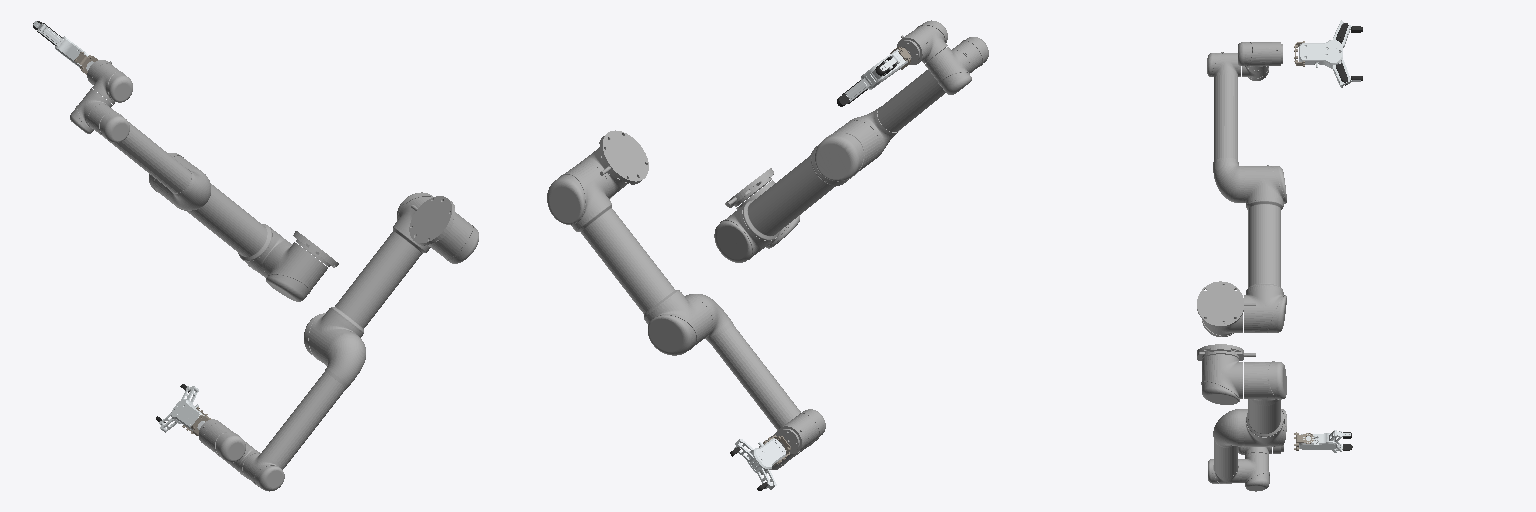
--- What the picture shows (computed from the rendered views, not written in the file) ---
The picture shows the robot from 3 angles, left to right: view 1: azimuth 30°, elevation 25°; view 2: azimuth 150°, elevation 25°; view 3: azimuth 270°, elevation 25°; orthographic projection.
Model prl_ur5_robot with 77 links and 76 joints (26 revolute, 50 fixed), rooted at prl_ur5_base, posed all joints at 0.
Visible links, largest first — view 1: right_upper_arm_link, right_forearm_link, left_forearm_link, left_upper_arm_link, left_shoulder_link, right_base_link, right_shoulder_link, left_wrist_2_link, right_wrist_2_link, left_wrist_1_link, right_gripper_body; view 2: right_upper_arm_link, left_upper_arm_link, right_forearm_link, left_forearm_link, right_base_link, left_wrist_1_link, left_wrist_2_link, right_gripper_body, right_wrist_2_link, right_wrist_3_link, left_wrist_3_link, left_base_link (+1 smaller); view 3: left_upper_arm_link, left_forearm_link, right_upper_arm_link, right_forearm_link, right_shoulder_link, left_base_link, left_gripper_body, right_wrist_1_link, left_wrist_2_link, right_base_link.
Link boxes in pixels (left/top/right/bottom): right_upper_arm_link: left=304, top=192, right=432, bottom=365; right_forearm_link: left=243, top=331, right=365, bottom=491; left_forearm_link: left=88, top=104, right=210, bottom=210; left_upper_arm_link: left=149, top=153, right=292, bottom=277; left_shoulder_link: left=265, top=242, right=327, bottom=301; right_base_link: left=409, top=196, right=454, bottom=245; right_shoulder_link: left=428, top=212, right=478, bottom=263; left_wrist_2_link: left=92, top=64, right=132, bottom=104; right_wrist_2_link: left=204, top=423, right=245, bottom=462; left_wrist_1_link: left=70, top=88, right=112, bottom=133; right_gripper_body: left=171, top=399, right=204, bottom=430; right_upper_arm_link: left=547, top=163, right=712, bottom=355; left_upper_arm_link: left=714, top=120, right=879, bottom=262; right_forearm_link: left=685, top=294, right=818, bottom=451; left_forearm_link: left=849, top=37, right=988, bottom=158; right_base_link: left=599, top=130, right=648, bottom=184; left_wrist_1_link: left=925, top=47, right=971, bottom=94; left_wrist_2_link: left=909, top=20, right=947, bottom=63; right_gripper_body: left=747, top=438, right=785, bottom=474; right_wrist_2_link: left=788, top=409, right=825, bottom=450; right_wrist_3_link: left=776, top=422, right=806, bottom=453; left_wrist_3_link: left=897, top=34, right=927, bottom=64; left_base_link: left=725, top=168, right=773, bottom=207; left_upper_arm_link: left=1244, top=165, right=1286, bottom=332; left_forearm_link: left=1207, top=52, right=1243, bottom=202; right_upper_arm_link: left=1244, top=361, right=1286, bottom=446; right_forearm_link: left=1208, top=409, right=1243, bottom=483; right_shoulder_link: left=1201, top=354, right=1242, bottom=404; left_base_link: left=1197, top=281, right=1255, bottom=327; left_gripper_body: left=1299, top=40, right=1342, bottom=68; right_wrist_1_link: left=1242, top=452, right=1269, bottom=491; left_wrist_2_link: left=1238, top=42, right=1271, bottom=70; right_base_link: left=1197, top=344, right=1255, bottom=360.
Size in the robot's own frame: 1.2 by 0.5127 by 1.37 metres.
36 mesh visuals loaded from 23 distinct referenced files (13 binary STL, 7 Collada DAE); not drawn: 6 (reference not matched to a file when rendering).

robot.urdf — prl_ur5_robot:
<?xml version="1.0" encoding="utf-8"?><!-- =================================================================================== --><!-- |    This document was autogenerated by xacro from [local-path]/catkin_ws/src/prl_ur5_robot/prl_ur5_description/urdf/prl_ur5_robot.urdf.xacro | --><!-- |    EDITING THIS FILE BY HAND IS NOT RECOMMENDED                                 | --><!-- =================================================================================== --><robot name="prl_ur5_robot">
  <material name="onrobot/grey">
    <color rgba="0.65 0.62 0.58 1.0"/>
  </material>
  <material name="onrobot/light_grey">
    <color rgba="0.9 0.92 0.93 1.0"/>
  </material>
  <material name="onrobot/dark_grey">
    <color rgba="0.25 0.25 0.25 1.0"/>
  </material>
  <material name="aluminum">
    <color rgba="0.5 0.5 0.5 1"/>
  </material>
  <material name="plastic">
    <color rgba="0.1 0.1 0.1 1"/>
  </material>
  <material name="blue_platinum">
    <color rgba="0.192 0.357 0.451 1"/>
  </material>
  <!-- base link -->
  <link name="prl_ur5_base"><inertial><mass value="0.001"/><inertia ixx="0.00001" ixy="0" ixz="0" iyy="0.00001" iyz="0" izz="0.00001"/></inertial></link>
  <!-- measured from model -->
  <link name="left_base_link">
    <visual>
      <origin rpy="0 0 3.141592653589793" xyz="0 0 0"/>
      <geometry>
        <mesh filename="./meshes/ur5/visual/base.dae"/>
      </geometry>
      <material name="LightGrey">
        <color rgba="0.7 0.7 0.7 1.0"/>
      </material>
    </visual>
    <collision>
      <origin rpy="0 0 3.141592653589793" xyz="0 0 0"/>
      <geometry>
        <mesh filename="./meshes/ur5/collision/base.stl"/>
      </geometry>
    </collision>
    <inertial>
      <mass value="4.0"/>
      <origin rpy="0 0 0" xyz="0.0 0.0 0.0"/>
      <inertia ixx="0.00443333156" ixy="0.0" ixz="0.0" iyy="0.00443333156" iyz="0.0" izz="0.0072"/>
    </inertial>
  </link>
  <joint name="left_shoulder_pan_joint" type="revolute">
    <parent link="left_base_link"/>
    <child link="left_shoulder_link"/>
    <origin rpy="0 0 3.1415899040874247" xyz="0 0 0.08918501667510044"/>
    <axis xyz="0 0 1"/>
    <limit effort="150.0" lower="-3.14159" upper="3.14159" velocity="3.15"/>
    <dynamics damping="0.0" friction="0.0"/>
  </joint>
  <link name="left_shoulder_link">
    <visual>
      <origin rpy="0 0 3.141592653589793" xyz="0 0 0"/>
      <geometry>
        <mesh filename="./meshes/ur5/visual/shoulder.dae"/>
      </geometry>
      <material name="LightGrey">
        <color rgba="0.7 0.7 0.7 1.0"/>
      </material>
    </visual>
    <collision>
      <origin rpy="0 0 3.141592653589793" xyz="0 0 0"/>
      <geometry>
        <mesh filename="./meshes/ur5/collision/shoulder.stl"/>
      </geometry>
    </collision>
    <inertial>
      <mass value="3.7"/>
      <origin rpy="0 0 0" xyz="0.0 0.0 0.0"/>
      <inertia ixx="0.014972352344389999" ixy="0.0" ixz="0.0" iyy="0.014972352344389999" iyz="0.0" izz="0.01040625"/>
    </inertial>
  </link>
  <joint name="left_shoulder_lift_joint" type="revolute">
    <parent link="left_shoulder_link"/>
    <child link="left_upper_arm_link"/>
    <origin rpy="1.570525232048461 0 1.921977645271288e-05" xyz="0.000107269917097091 0 0"/>
    <axis xyz="0 0 1"/>
    <limit effort="150.0" lower="-3.14159" upper="3.14159" velocity="3.15"/>
    <dynamics damping="0.0" friction="0.0"/>
  </joint>
  <link name="left_upper_arm_link">
    <visual>
      <origin rpy="1.5707963267948966 0 -1.5707963267948966" xyz="0 0 0.136"/>
      <geometry>
        <mesh filename="./meshes/ur5/visual/upperarm.dae"/>
      </geometry>
      <material name="LightGrey">
        <color rgba="0.7 0.7 0.7 1.0"/>
      </material>
    </visual>
    <collision>
      <origin rpy="1.5707963267948966 0 -1.5707963267948966" xyz="0 0 0.136"/>
      <geometry>
        <mesh filename="./meshes/ur5/collision/upperarm.stl"/>
      </geometry>
    </collision>
    <inertial>
      <mass value="8.393"/>
      <origin rpy="0 1.5707963267948966 0" xyz="-0.2127477038614434 0.0 0.136"/>
      <inertia ixx="0.13418047535691163" ixy="0.0" ixz="0.0" iyy="0.13418047535691163" iyz="0.0" izz="0.0151074"/>
    </inertial>
  </link>
  <joint name="left_elbow_joint" type="revolute">
    <parent link="left_upper_arm_link"/>
    <child link="left_forearm_link"/>
    <origin rpy="0.000369043097955391 0.0005901088854669997 5.099356470552253e-05" xyz="-0.4254954077228868 0 0"/>
    <axis xyz="0 0 1"/>
    <limit effort="150.0" lower="-3.14159" upper="3.14159" velocity="3.15"/>
    <dynamics damping="0.0" friction="0.0"/>
  </joint>
  <link name="left_forearm_link">
    <visual>
      <origin rpy="1.5707963267948966 0 -1.5707963267948966" xyz="0 0 0.0165"/>
      <geometry>
        <mesh filename="./meshes/ur5/visual/forearm.dae"/>
      </geometry>
      <material name="LightGrey">
        <color rgba="0.7 0.7 0.7 1.0"/>
      </material>
    </visual>
    <collision>
      <origin rpy="1.5707963267948966 0 -1.5707963267948966" xyz="0 0 0.0165"/>
      <geometry>
        <mesh filename="./meshes/ur5/collision/forearm.stl"/>
      </geometry>
    </collision>
    <inertial>
      <mass value="2.275"/>
      <origin rpy="0 1.5707963267948966 0" xyz="-0.2127477038614434 0.0 0.0165"/>
      <inertia ixx="0.03124063802929152" ixy="0.0" ixz="0.0" iyy="0.03124063802929152" iyz="0.0" izz="0.004095"/>
    </inertial>
  </link>
  <joint name="left_wrist_1_joint" type="revolute">
    <parent link="left_forearm_link"/>
    <child link="left_wrist_1_link"/>
    <origin rpy="0.007357465532194211 0.001366817683118754 5.507031446329021e-05" xyz="-0.3924103068549387 -0.0008152208483887941 0.1107998582993478"/>
    <axis xyz="0 0 1"/>
    <limit effort="28.0" lower="-3.14159" upper="3.14159" velocity="3.2"/>
    <dynamics damping="0.0" friction="0.0"/>
  </joint>
  <link name="left_wrist_1_link">
    <visual>
      <origin rpy="1.5707963267948966 0 0" xyz="0 0 -0.093"/>
      <geometry>
        <mesh filename="./meshes/ur5/visual/wrist1.dae"/>
      </geometry>
      <material name="LightGrey">
        <color rgba="0.7 0.7 0.7 1.0"/>
      </material>
    </visual>
    <collision>
      <origin rpy="1.5707963267948966 0 0" xyz="0 0 -0.093"/>
      <geometry>
        <mesh filename="./meshes/ur5/collision/wrist1.stl"/>
      </geometry>
    </collision>
    <inertial>
      <mass value="1.219"/>
      <origin rpy="0 0 0" xyz="0.0 0.0 0.0"/>
      <inertia ixx="0.0026283086923852682" ixy="0.0" ixz="0.0" iyy="0.0026283086923852682" iyz="0.0" izz="0.0034284375"/>
    </inertial>
  </link>
  <joint name="left_wrist_2_joint" type="revolute">
    <parent link="left_wrist_1_link"/>
    <child link="left_wrist_2_link"/>
    <origin rpy="1.569689148919446 0 -3.884674228365137e-06" xyz="1.88989034199928e-05 -0.09486007969995007 0.000105027024422771"/>
    <axis xyz="0 0 1"/>
    <limit effort="28.0" lower="-3.14159" upper="3.14159" velocity="3.2"/>
    <dynamics damping="0.0" friction="0.0"/>
  </joint>
  <link name="left_wrist_2_link">
    <visual>
      <origin rpy="0 0 0" xyz="0 0 -0.095"/>
      <geometry>
        <mesh filename="./meshes/ur5/visual/wrist2.dae"/>
      </geometry>
      <material name="LightGrey">
        <color rgba="0.7 0.7 0.7 1.0"/>
      </material>
    </visual>
    <collision>
      <origin rpy="0 0 0" xyz="0 0 -0.095"/>
      <geometry>
        <mesh filename="./meshes/ur5/collision/wrist2.stl"/>
      </geometry>
    </collision>
    <inertial>
      <mass value="1.219"/>
      <origin rpy="0 0 0" xyz="0.0 0.0 0.0"/>
      <inertia ixx="0.001789107756303019" ixy="0.0" ixz="0.0" iyy="0.001789107756303019" iyz="0.0" izz="0.0021942"/>
    </inertial>
  </link>
  <joint name="left_wrist_3_joint" type="revolute">
    <parent link="left_wrist_2_link"/>
    <child link="left_wrist_3_link"/>
    <origin rpy="1.571563236607506 3.141592653589793 3.141560506388899" xyz="8.727327772039603e-05 0.08253620113769419 6.32978349575522e-05"/>
    <axis xyz="0 0 1"/>
    <limit effort="28.0" lower="-3.14159" upper="3.14159" velocity="3.2"/>
    <dynamics damping="0.0" friction="0.0"/>
  </joint>
  <link name="left_wrist_3_link">
    <visual>
      <origin rpy="1.5707963267948966 0 0" xyz="0 0 -0.0818"/>
      <geometry>
        <mesh filename="./meshes/ur5/visual/wrist3.dae"/>
      </geometry>
      <material name="LightGrey">
        <color rgba="0.7 0.7 0.7 1.0"/>
      </material>
    </visual>
    <collision>
      <origin rpy="1.5707963267948966 0 0" xyz="0 0 -0.0823"/>
      <geometry>
        <mesh filename="./meshes/ur5/collision/wrist3.stl"/>
      </geometry>
    </collision>
    <inertial>
      <mass value="0.1879"/>
      <origin rpy="0 0 0" xyz="0.0 0.0 -0.01525"/>
      <inertia ixx="8.062472608343e-05" ixy="0.0" ixz="0.0" iyy="8.062472608343e-05" iyz="0.0" izz="0.0001321171875"/>
    </inertial>
  </link>
  <joint name="left_ee_fixed_joint" type="fixed">
    <parent link="left_wrist_3_link"/>
    <child link="left_ee_link"/>
    <origin rpy="0.0 -1.5707963267948966 1.5707963267948966" xyz="0.0 0.0 0.0"/>
  </joint>
  <link name="left_ee_link">
    <collision>
      <geometry>
        <box size="0.01 0.01 0.01"/>
      </geometry>
      <origin rpy="0 0 0" xyz="-0.01 0 0"/>
    </collision>
  <inertial><mass value="0.001"/><inertia ixx="0.00001" ixy="0" ixz="0" iyy="0.00001" iyz="0" izz="0.00001"/></inertial></link>
  <joint name="left_wrist_3_passive_joint" type="fixed">
    <origin rpy="0 0 0" xyz="0 0 0"/>
    <parent link="left_wrist_3_link"/>
    <child link="left_tool0"/>
  </joint>
  
  <!-- ROS base_link to UR 'Base' Coordinates transform -->
  <link name="left_base"><inertial><mass value="0.001"/><inertia ixx="0.00001" ixy="0" ixz="0" iyy="0.00001" iyz="0" izz="0.00001"/></inertial></link>
  <joint name="left_base_link-base_fixed_joint" type="fixed">
    <!-- NOTE: this rotation is only needed as long as base_link itself is
                 not corrected wrt the real robot (ie: rotated over 180
                 degrees)
      -->
    <origin rpy="0 0 -3.141592653589793" xyz="0 0 0"/>
    <parent link="left_base_link"/>
    <child link="left_base"/>
  </joint>
  <!-- Frame coincident with all-zeros TCP on UR controller -->
  <link name="left_tool0"><inertial><mass value="0.001"/><inertia ixx="0.00001" ixy="0" ixz="0" iyy="0.00001" iyz="0" izz="0.00001"/></inertial></link>
  <joint name="left_base_joint" type="fixed">
    <origin rpy="0.0 -2.356194490192345 0.0" xyz="-0.17906 -0.3825 0.78936"/>
    <parent link="prl_ur5_base"/>
    <child link="left_base_link"/>
  </joint>
  <!-- mount the fts to the robot -->
  <joint name="left_ft300_fix" type="fixed">
    <origin rpy="0 0 -1.5707963267948966" xyz="0 0 -0.004"/>
    <parent link="left_tool0"/>
    <child link="left_ft300_mounting_plate"/>
  </joint>
  <!-- Link representing the FT300 force-torque sensor -->
  <link name="left_ft300_sensor">
    <inertial>
      <origin rpy="0 0 0" xyz="0 0 -0.017"/>
      <mass value="0.300"/>
      <inertia ixx="0.000262" ixy="0" ixz="1e-06" iyx="0" iyy="0.000265" iyz="1e-06" izx="-1e-06" izy="1e-06" izz="0.000219"/>
    </inertial>
    <visual>
      <origin rpy="0 0 0" xyz="0 0 0"/>
      <geometry>
        <mesh filename="./meshes/robotiq_ft_sensor/visual/robotiq_ft300.STL"/>
      </geometry>
      <material name="Robotiq-Black">
        <color rgba="0.2 0.2 0.2 1.0"/>
      </material>
    </visual>
    <collision>
      <origin rpy="0 0 0" xyz="0 0 0"/>
      <geometry>
        <mesh filename="./meshes/robotiq_ft_sensor/collision/robotiq_ft300.STL"/>
      </geometry>
    </collision>
  </link>
  <!-- Link representing the FT300 mounting plate -->
  <link name="left_ft300_mounting_plate">
    <visual>
      <origin rpy="0 0 0" xyz="0 0 0"/>
      <geometry>
        <mesh filename="./meshes/robotiq_ft_sensor/visual/mountings/robotiq_ft300-G-062-COUPLING_G-50-4M6-1D6_20181119.STL"/>
      </geometry>
      <material name="Robotiq-Grey">
        <color rgba="0.4 0.4 0.4 1.0"/>
      </material>
    </visual>
    <collision>
      <origin rpy="0 0 0" xyz="0 0 0"/>
      <geometry>
        <mesh filename="./meshes/robotiq_ft_sensor/collision/mountings/robotiq_ft300-G-062-COUPLING_G-50-4M6-1D6_20181119.STL"/>
      </geometry>
    </collision>
  <inertial><mass value="0.001"/><inertia ixx="0.00001" ixy="0" ixz="0" iyy="0.00001" iyz="0" izz="0.00001"/></inertial></link>
  <!-- Connect force sensor with mounting/coupling plate -->
  <joint name="left_ft300_mounting_plate" type="fixed">
    <origin rpy="0 3.141592653589793 0" xyz="0 0 0.0415"/>
    <parent link="left_ft300_mounting_plate"/>
    <child link="left_ft300_sensor"/>
  </joint>
  <!-- FORCE REFERENCE FRAME _______________________________________________________________________________
            As specified in the documentation:
            - The Z axis passes through the center of the depression with positive direction in the tool direction.
            - The X axis traces a symmetric line centered on the connector; the positive direction
                points the opposite way away from the connector.
            - The Y axis uses the right hand thumb rule according to X-Z. -->
  <joint name="left_measurment_joint" type="fixed">
    <origin rpy="0 3.141592653589793 -1.5707963267948966" xyz="0 0 0"/>
    <parent link="left_ft300_sensor"/>
    <child link="left_robotiq_ft_frame_id"/>
  </joint>
  <link name="left_robotiq_ft_frame_id"><inertial><mass value="0.001"/><inertia ixx="0.00001" ixy="0" ixz="0" iyy="0.00001" iyz="0" izz="0.00001"/></inertial></link>
   <!-- tool frame -->
  <link name="left_tool"><inertial><mass value="0.001"/><inertia ixx="0.00001" ixy="0" ixz="0" iyy="0.00001" iyz="0" izz="0.00001"/></inertial></link>
  <joint name="left_tool_joint" type="fixed">
    <origin rpy="0 0 0" xyz="0 0 0"/>
    <parent link="left_robotiq_ft_frame_id"/>
    <child link="left_tool"/>
  </joint>
  <!-- bracket -->
  <link name="left_gripper_bracket">
    <visual>
      <geometry>
        <mesh filename="./meshes/rg6_v1/visual/single_bracket.stl"/>
      </geometry>
      <material name="onrobot/grey"/>
    </visual>
    <collision>
      <geometry>
        <mesh filename="./meshes/rg6_v1/collision/single_bracket.stl"/>
      </geometry>
    </collision>
    <inertial>
      <mass value="0.001"/>
      <inertia ixx="0.001" ixy="0.0" ixz="0.0" iyy="0.001" iyz="0.0" izz="0.001"/>
    </inertial>
  </link>
  <joint name="left_gripper_bracket_joint" type="fixed">
    <parent link="left_tool"/>
    <child link="left_gripper_bracket"/>
    <origin rpy="0.0 0.0 0.0" xyz="0.0 0.0 0.0"/>
  </joint>
  <!-- body -->
  <link name="left_gripper_body">
    <visual>
      <geometry>
        <mesh filename="./meshes/rg6_v1/visual/body.stl"/>
      </geometry>
      <material name="onrobot/light_grey"/>
    </visual>
    <collision>
      <geometry>
        <mesh filename="./meshes/rg6_v1/collision/body.stl"/>
      </geometry>
    </collision>
    <inertial>
      <mass value="0.78"/>
      <inertia ixx="0.001" ixy="0.0" ixz="0.0" iyy="0.001" iyz="0.0" izz="0.001"/>
    </inertial>
  </link>
  <joint name="left_gripper_body_joint" type="fixed">
    <parent link="left_gripper_bracket"/>
    <child link="left_gripper_body"/>
    <origin rpy="0.0 0.0 0.0" xyz="0.0 0.0 0.051"/>
  </joint>
  <!-- grasp frame -->
  <link name="left_gripper_grasp_frame"><inertial><mass value="0.001"/><inertia ixx="0.00001" ixy="0" ixz="0" iyy="0.00001" iyz="0" izz="0.00001"/></inertial></link>
  <joint name="left_gripper_grasp_frame_joint" type="fixed">
    <parent link="left_gripper_body"/>
    <child link="left_gripper_grasp_frame"/>
    <origin rpy="0.0 0.0 0.0" xyz="0.0 0.0 0.19"/>
  </joint>
  <!-- origin frame -->
  <link name="left_gripper_finger_1_origin">
    <inertial>
      <mass value="0.001"/>
      <inertia ixx="0.00001" ixy="0.0" ixz="0.0" iyy="0.00001" iyz="0.0" izz="0.00001"/>
    </inertial>
  </link>
  <joint name="left_gripper_finger_1_origin_joint" type="fixed">
    <parent link="left_gripper_body"/>
    <child link="left_gripper_finger_1_origin"/>
    <origin rpy="0 0 0" xyz="0 0 0"/>
  </joint>
  <!-- moment bar -->
  <link name="left_gripper_finger_1_moment_arm">
    <visual>
      <geometry>
        <mesh filename="./meshes/rg6_v1/visual/moment_arm.stl"/>
      </geometry>
      <material name="onrobot/light_grey"/>
    </visual>
    <collision>
      <geometry>
        <mesh filename="./meshes/rg6_v1/collision/moment_arm.stl"/>
      </geometry>
    </collision>
    <inertial>
      <mass value="0.001"/>
      <inertia ixx="0.001" ixy="0.0" ixz="0.0" iyy="0.001" iyz="0.0" izz="0.001"/>
    </inertial>
  </link>
  <joint name="left_gripper_joint" type="revolute">
    <parent link="left_gripper_finger_1_origin"/>
    <child link="left_gripper_finger_1_moment_arm"/>
    <axis xyz="0 1 0"/>
    <origin rpy="0.0 -0.49 0.0" xyz="-0.0238 0.0 0.066"/>
    <limit effort="10.0" lower="0.0" upper="1.3" velocity="2.4"/>
    <dynamics damping="0.5"/>
  </joint>
  <!-- truss bar -->
  <link name="left_gripper_finger_1_truss_arm">
    <visual>
      <geometry>
        <mesh filename="./meshes/rg6_v1/visual/truss_arm.stl"/>
      </geometry>
      <material name="onrobot/light_grey"/>
    </visual>
    <collision>
      <geometry>
        <mesh filename="./meshes/rg6_v1/collision/truss_arm.stl"/>
      </geometry>
    </collision>
    <inertial>
      <mass value="0.001"/>
      <inertia ixx="0.001" ixy="0.0" ixz="0.0" iyy="0.001" iyz="0.0" izz="0.001"/>
    </inertial>
  </link>
  <joint name="left_gripper_finger_1_truss_arm_joint" type="revolute">
    <parent link="left_gripper_finger_1_origin"/>
    <child link="left_gripper_finger_1_truss_arm"/>
    <axis xyz="0 1 0"/>
    <origin rpy="0.0 -0.49 0.0" xyz="-0.0105 0.0 0.0891"/>
    <limit effort="10.0" lower="0.0" upper="1.3" velocity="2.4"/>
    <mimic joint="left_gripper_joint" multiplier="1" offset="0"/>
  </joint>
  <link name="left_gripper_finger_1_safety_shield">
    <visual>
      <geometry>
        <mesh filename="./meshes/rg6_v1/visual/safety_shield.stl"/>
      </geometry>
      <material name="onrobot/dark_grey"/>
    </visual>
    <collision>
      <geometry>
        <!-- <mesh filename="package://onrobot_description/meshes/${model}/collision/safety_shield.stl"/> -->
        <box size="0.0 0.0 0.0"/>
      </geometry>
    </collision>
    <inertial>
      <mass value="0.001"/>
      <inertia ixx="0.001" ixy="0.0" ixz="0.0" iyy="0.001" iyz="0.0" izz="0.001"/>
    </inertial>
  </link>
  <joint name="left_gripper_finger_1_safety_shield_joint" type="revolute">
    <parent link="left_gripper_finger_1_finger_tip"/>
    <child link="left_gripper_finger_1_safety_shield"/>
    <axis xyz="0 1 0"/>
    <origin rpy="0.0 -0.49 0.0" xyz="-0.00665 0.0 -0.01155"/>
    <limit effort="10.0" lower="0.0" upper="1.3" velocity="2.4"/>
    <mimic joint="left_gripper_joint" multiplier="1" offset="0"/>
  </joint>
  <!-- finger tip -->
  <link name="left_gripper_finger_1_finger_tip">
    <visual>
      <geometry>
        <mesh filename="./meshes/rg6_v1/visual/finger_tip.stl"/>
      </geometry>
      <material name="onrobot/light_grey"/>
    </visual>
    <collision>
      <geometry>
        <mesh filename="./meshes/rg6_v1/collision/finger_tip_1.stl"/>
      </geometry>
    </collision>
    <collision>
      <geometry>
        <mesh filename="./meshes/rg6_v1/collision/finger_tip_2.stl"/>
      </geometry>
    </collision>
    <inertial>
      <mass value="0.001"/>
      <inertia ixx="0.001" ixy="0.0" ixz="0.0" iyy="0.001" iyz="0.0" izz="0.001"/>
    </inertial>
  </link>
  <joint name="left_gripper_finger_1_finger_tip_joint" type="revolute">
    <parent link="left_gripper_finger_1_truss_arm"/>
    <child link="left_gripper_finger_1_finger_tip"/>
    <axis xyz="0 -1 0"/>
    <origin rpy="0.0 0.49 0.0" xyz="-0.05503 0.0 0.05807"/>
    <limit effort="10.0" lower="0.0" upper="1.3" velocity="2.4"/>
    <mimic joint="left_gripper_joint" multiplier="1" offset="0"/>
  </joint>
  <!-- flex finger -->
  <link name="left_gripper_finger_1_flex_finger">
    <visual>
      <geometry>
        <mesh filename="./meshes/rg6_v1/visual/flex_finger.stl"/>
      </geometry>
      <material name="onrobot/dark_grey"/>
    </visual>
    <collision>
      <geometry>
        <mesh filename="./meshes/rg6_v1/collision/flex_finger.stl"/>
      </geometry>
    </collision>
    <inertial>
      <mass value="0.001"/>
      <inertia ixx="0.001" ixy="0.0" ixz="0.0" iyy="0.001" iyz="0.0" izz="0.001"/>
    </inertial>
  </link>
  <joint name="left_gripper_finger_1_flex_finger_joint" type="fixed">
    <parent link="left_gripper_finger_1_finger_tip"/>
    <child link="left_gripper_finger_1_flex_finger"/>
    <origin rpy="0.0 0.0 0.0" xyz="0.0098 0.0 0.0218"/>
  </joint>
  <!-- origin frame -->
  <link name="left_gripper_finger_2_origin">
    <inertial>
      <mass value="0.001"/>
      <inertia ixx="0.00001" ixy="0.0" ixz="0.0" iyy="0.00001" iyz="0.0" izz="0.00001"/>
    </inertial>
  </link>
  <joint name="left_gripper_finger_2_origin_joint" type="fixed">
    <parent link="left_gripper_body"/>
    <child link="left_gripper_finger_2_origin"/>
    <origin rpy="0 0 3.141592653589793" xyz="0 0 0"/>
  </joint>
  <!-- moment bar -->
  <link name="left_gripper_finger_2_moment_arm">
    <visual>
      <geometry>
        <mesh filename="./meshes/rg6_v1/visual/moment_arm.stl"/>
      </geometry>
      <material name="onrobot/light_grey"/>
    </visual>
    <collision>
      <geometry>
        <mesh filename="./meshes/rg6_v1/collision/moment_arm.stl"/>
      </geometry>
    </collision>
    <inertial>
      <mass value="0.001"/>
      <inertia ixx="0.001" ixy="0.0" ixz="0.0" iyy="0.001" iyz="0.0" izz="0.001"/>
    </inertial>
  </link>
  <joint name="left_gripper_mirror_joint" type="revolute">
    <parent link="left_gripper_finger_2_origin"/>
    <child link="left_gripper_finger_2_moment_arm"/>
    <axis xyz="0 1 0"/>
    <origin rpy="0.0 -0.49 0.0" xyz="-0.0238 0.0 0.066"/>
    <limit effort="10.0" lower="0.0" upper="1.3" velocity="2.4"/>
    <dynamics damping="0.5"/>
    <mimic joint="left_gripper_joint" multiplier="1" offset="0"/>
  </joint>
  <!-- truss bar -->
  <link name="left_gripper_finger_2_truss_arm">
    <visual>
      <geometry>
        <mesh filename="./meshes/rg6_v1/visual/truss_arm.stl"/>
      </geometry>
      <material name="onrobot/light_grey"/>
    </visual>
    <collision>
      <geometry>
        <mesh filename="./meshes/rg6_v1/collision/truss_arm.stl"/>
      </geometry>
    </collision>
    <inertial>
      <mass value="0.001"/>
      <inertia ixx="0.001" ixy="0.0" ixz="0.0" iyy="0.001" iyz="0.0" izz="0.001"/>
    </inertial>
  </link>
  <joint name="left_gripper_finger_2_truss_arm_joint" type="revolute">
    <parent link="left_gripper_finger_2_origin"/>
    <child link="left_gripper_finger_2_truss_arm"/>
    <axis xyz="0 1 0"/>
    <origin rpy="0.0 -0.49 0.0" xyz="-0.0105 0.0 0.0891"/>
    <limit effort="10.0" lower="0.0" upper="1.3" velocity="2.4"/>
    <mimic joint="left_gripper_joint" multiplier="1" offset="0"/>
  </joint>
  <link name="left_gripper_finger_2_safety_shield">
    <visual>
      <geometry>
        <mesh filename="./meshes/rg6_v1/visual/safety_shield.stl"/>
      </geometry>
      <material name="onrobot/dark_grey"/>
    </visual>
    <collision>
      <geometry>
        <!-- <mesh filename="package://onrobot_description/meshes/${model}/collision/safety_shield.stl"/> -->
        <box size="0.0 0.0 0.0"/>
      </geometry>
    </collision>
    <inertial>
      <mass value="0.001"/>
      <inertia ixx="0.001" ixy="0.0" ixz="0.0" iyy="0.001" iyz="0.0" izz="0.001"/>
    </inertial>
  </link>
  <joint name="left_gripper_finger_2_safety_shield_joint" type="revolute">
    <parent link="left_gripper_finger_2_finger_tip"/>
    <child link="left_gripper_finger_2_safety_shield"/>
    <axis xyz="0 1 0"/>
    <origin rpy="0.0 -0.49 0.0" xyz="-0.00665 0.0 -0.01155"/>
    <limit effort="10.0" lower="0.0" upper="1.3" velocity="2.4"/>
    <mimic joint="left_gripper_joint" multiplier="1" offset="0"/>
  </joint>
  <!-- finger tip -->
  <link name="left_gripper_finger_2_finger_tip">
    <visual>
      <geometry>
        <mesh filename="./meshes/rg6_v1/visual/finger_tip.stl"/>
      </geometry>
      <material name="onrobot/light_grey"/>
    </visual>
    <collision>
      <geometry>
        <mesh filename="./meshes/rg6_v1/collision/finger_tip_1.stl"/>
      </geometry>
    </collision>
    <collision>
      <geometry>
        <mesh filename="./meshes/rg6_v1/collision/finger_tip_2.stl"/>
      </geometry>
    </collision>
    <inertial>
      <mass value="0.001"/>
      <inertia ixx="0.001" ixy="0.0" ixz="0.0" iyy="0.001" iyz="0.0" izz="0.001"/>
    </inertial>
  </link>
  <joint name="left_gripper_finger_2_finger_tip_joint" type="revolute">
    <parent link="left_gripper_finger_2_truss_arm"/>
    <child link="left_gripper_finger_2_finger_tip"/>
    <axis xyz="0 -1 0"/>
    <origin rpy="0.0 0.49 0.0" xyz="-0.05503 0.0 0.05807"/>
    <limit effort="10.0" lower="0.0" upper="1.3" velocity="2.4"/>
    <mimic joint="left_gripper_joint" multiplier="1" offset="0"/>
  </joint>
  <!-- flex finger -->
  <link name="left_gripper_finger_2_flex_finger">
    <visual>
      <geometry>
        <mesh filename="./meshes/rg6_v1/visual/flex_finger.stl"/>
      </geometry>
      <material name="onrobot/dark_grey"/>
    </visual>
    <collision>
      <geometry>
        <mesh filename="./meshes/rg6_v1/collision/flex_finger.stl"/>
      </geometry>
    </collision>
    <inertial>
      <mass value="0.001"/>
      <inertia ixx="0.001" ixy="0.0" ixz="0.0" iyy="0.001" iyz="0.0" izz="0.001"/>
    </inertial>
  </link>
  <joint name="left_gripper_finger_2_flex_finger_joint" type="fixed">
    <parent link="left_gripper_finger_2_finger_tip"/>
    <child link="left_gripper_finger_2_flex_finger"/>
    <origin rpy="0.0 0.0 0.0" xyz="0.0098 0.0 0.0218"/>
  </joint>
  <!-- camera body, with origin at bottom screw mount -->
  <joint name="left_camera_joint" type="fixed">
    <origin rpy="-1.57 -1.57 0.0" xyz="0.0 0.02 0.15"/>
    <parent link="left_tool"/>
    <child link="left_camera_bottom_screw_frame"/>
  </joint>
  <link name="left_camera_bottom_screw_frame"><inertial><mass value="0.001"/><inertia ixx="0.00001" ixy="0" ixz="0" iyy="0.00001" iyz="0" izz="0.00001"/></inertial></link>
  <joint name="left_camera_link_joint" type="fixed">
    <origin rpy="0 0 0" xyz="0.010600000000000002 0.0175 0.0125"/>
    <parent link="left_camera_bottom_screw_frame"/>
    <child link="left_camera_link"/>
  </joint>
  <link name="left_camera_link">
    <visual>
      <!-- the mesh origin is at front plate in between the two infrared camera axes -->
      <origin rpy="1.5707963267948966 0 1.5707963267948966" xyz="0.0043 -0.0175 0"/>
      <geometry>
        <!-- <box size="${d435_cam_width} ${d435_cam_height} ${d435_cam_depth}"/> -->
        <mesh filename="./meshes/realsense2/d435.dae"/>
      </geometry>
      <material name="aluminum"/>
    </visual>
    <collision>
      <origin rpy="0 0 0" xyz="0 -0.0175 0"/>
      <geometry>
        <box size="0.02505 0.09 0.025"/>
      </geometry>
    </collision>
    <inertial>
      <!-- The following are not reliable values, and should not be used for modeling -->
      <mass value="0.072"/>
      <origin xyz="0 0 0"/>
      <inertia ixx="0.003881243" ixy="0.0" ixz="0.0" iyy="0.000498940" iyz="0.0" izz="0.003879257"/>
    </inertial>
  </link>

  <!-- camera depth joints and links -->
  <!-- Check inertial and mass information. Just set to 1e-5 to avoid warnings -->
  <joint name="left_camera_depth_joint" type="fixed">
    <origin xyz="0 0 0" rpy="0 0 0"/>
    <parent link="left_camera_link"/>
    <child link="left_camera_depth_frame" />
  </joint>
  <link name="left_camera_depth_frame"><inertial><mass value="0.001"/><inertia ixx="0.00001" ixy="0" ixz="0" iyy="0.00001" iyz="0" izz="0.00001"/></inertial></link>

  <joint name="left_camera_depth_optical_joint" type="fixed">
    <origin xyz="0 0 0" rpy="-1.5707963267948966 0 -1.5707963267948966" />
    <parent link="left_camera_depth_frame" />
    <child link="left_camera_depth_optical_frame" />
  </joint>
  <link name="left_camera_depth_optical_frame"><inertial><mass value="0.001"/><inertia ixx="0.00001" ixy="0" ixz="0" iyy="0.00001" iyz="0" izz="0.00001"/></inertial></link>

  <!-- camera left IR joints and links -->
  <joint name="left_camera_infra1_joint" type="fixed">
    <origin xyz="0 0 0" rpy="0 0 0" />
    <parent link="left_camera_link" />
    <child link="left_camera_infra1_frame" />
  </joint>
  <link name="left_camera_infra1_frame"><inertial><mass value="0.001"/><inertia ixx="0.00001" ixy="0" ixz="0" iyy="0.00001" iyz="0" izz="0.00001"/></inertial></link>

  <joint name="left_camera_infra1_optical_joint" type="fixed">
    <origin xyz="0 0 0" rpy="-1.5707963267948966 0 -1.5707963267948966" />
    <parent link="left_camera_infra1_frame" />
    <child link="left_camera_infra1_optical_frame" />
  </joint>
  <link name="left_camera_infra1_optical_frame"><inertial><mass value="0.001"/><inertia ixx="0.00001" ixy="0" ixz="0" iyy="0.00001" iyz="0" izz="0.00001"/></inertial></link>

  <!-- camera right IR joints and links -->
  <joint name="left_camera_infra2_joint" type="fixed">
    <origin xyz="0 -0.05 0" rpy="0 0 0" />
    <parent link="left_camera_link" />
    <child link="left_camera_infra2_frame" />
  </joint>
  <link name="left_camera_infra2_frame"><inertial><mass value="0.001"/><inertia ixx="0.00001" ixy="0" ixz="0" iyy="0.00001" iyz="0" izz="0.00001"/></inertial></link>

  <joint name="left_camera_infra2_optical_joint" type="fixed">
    <origin xyz="0 0 0" rpy="-1.5707963267948966 0 -1.5707963267948966" />
    <parent link="left_camera_infra2_frame" />
    <child link="left_camera_infra2_optical_frame" />
  </joint>
  <link name="left_camera_infra2_optical_frame"><inertial><mass value="0.001"/><inertia ixx="0.00001" ixy="0" ixz="0" iyy="0.00001" iyz="0" izz="0.00001"/></inertial></link>

  <!-- camera color joints and links -->
  <joint name="left_camera_color_joint" type="fixed">
    <origin xyz="0 0.015 0" rpy="0 0 0" />
    <parent link="left_camera_link" />
    <child link="left_camera_color_frame" />
  </joint>
  <link name="left_camera_color_frame"><inertial><mass value="0.001"/><inertia ixx="0.00001" ixy="0" ixz="0" iyy="0.00001" iyz="0" izz="0.00001"/></inertial></link>

  <joint name="left_camera_color_optical_joint" type="fixed">
    <origin xyz="0 0 0" rpy="-1.5707963267948966 0 -1.5707963267948966" />
    <parent link="left_camera_color_frame" />
    <child link="left_camera_color_optical_frame" />
  </joint>
  <link name="left_camera_color_optical_frame"><inertial><mass value="0.001"/><inertia ixx="0.00001" ixy="0" ixz="0" iyy="0.00001" iyz="0" izz="0.00001"/></inertial></link>

  <!-- measured from model -->
  <link name="right_base_link">
    <visual>
      <origin rpy="0 0 3.141592653589793" xyz="0 0 0"/>
      <geometry>
        <mesh filename="./meshes/ur5/visual/base.dae"/>
      </geometry>
      <material name="LightGrey">
        <color rgba="0.7 0.7 0.7 1.0"/>
      </material>
    </visual>
    <collision>
      <origin rpy="0 0 3.141592653589793" xyz="0 0 0"/>
      <geometry>
        <mesh filename="./meshes/ur5/collision/base.stl"/>
      </geometry>
    </collision>
    <inertial>
      <mass value="4.0"/>
      <origin rpy="0 0 0" xyz="0.0 0.0 0.0"/>
      <inertia ixx="0.00443333156" ixy="0.0" ixz="0.0" iyy="0.00443333156" iyz="0.0" izz="0.0072"/>
    </inertial>
  </link>
  <joint name="right_shoulder_pan_joint" type="revolute">
    <parent link="right_base_link"/>
    <child link="right_shoulder_link"/>
    <origin rpy="0 0 3.1416620045261725" xyz="0 0 0.08949928559905179"/>
    <axis xyz="0 0 1"/>
    <limit effort="150.0" lower="-3.14159" upper="3.14159" velocity="3.15"/>
    <dynamics damping="0.0" friction="0.0"/>
  </joint>
  <link name="right_shoulder_link">
    <visual>
      <origin rpy="0 0 3.141592653589793" xyz="0 0 0"/>
      <geometry>
        <mesh filename="./meshes/ur5/visual/shoulder.dae"/>
      </geometry>
      <material name="LightGrey">
        <color rgba="0.7 0.7 0.7 1.0"/>
      </material>
    </visual>
    <collision>
      <origin rpy="0 0 3.141592653589793" xyz="0 0 0"/>
      <geometry>
        <mesh filename="./meshes/ur5/collision/shoulder.stl"/>
      </geometry>
    </collision>
    <inertial>
      <mass value="3.7"/>
      <origin rpy="0 0 0" xyz="0.0 0.0 0.0"/>
      <inertia ixx="0.014972352344389999" ixy="0.0" ixz="0.0" iyy="0.014972352344389999" iyz="0.0" izz="0.01040625"/>
    </inertial>
  </link>
  <joint name="right_shoulder_lift_joint" type="revolute">
    <parent link="right_shoulder_link"/>
    <child link="right_upper_arm_link"/>
    <origin rpy="1.569776430478979 0 -1.899595783444728e-05" xyz="-4.453187360131969e-05 0 0"/>
    <axis xyz="0 0 1"/>
    <limit effort="150.0" lower="-3.14159" upper="3.14159" velocity="3.15"/>
    <dynamics damping="0.0" friction="0.0"/>
  </joint>
  <link name="right_upper_arm_link">
    <visual>
      <origin rpy="1.5707963267948966 0 -1.5707963267948966" xyz="0 0 0.136"/>
      <geometry>
        <mesh filename="./meshes/ur5/visual/upperarm.dae"/>
      </geometry>
      <material name="LightGrey">
        <color rgba="0.7 0.7 0.7 1.0"/>
      </material>
    </visual>
    <collision>
      <origin rpy="1.5707963267948966 0 -1.5707963267948966" xyz="0 0 0.136"/>
      <geometry>
        <mesh filename="./meshes/ur5/collision/upperarm.stl"/>
      </geometry>
    </collision>
    <inertial>
      <mass value="8.393"/>
      <origin rpy="0 1.5707963267948966 0" xyz="-0.2127977589367988 0.0 0.136"/>
      <inertia ixx="0.13424006761999863" ixy="0.0" ixz="0.0" iyy="0.13424006761999863" iyz="0.0" izz="0.0151074"/>
    </inertial>
  </link>
  <joint name="right_elbow_joint" type="revolute">
    <parent link="right_upper_arm_link"/>
    <child link="right_forearm_link"/>
    <origin rpy="0.003664895000787752 0.003110587533505237 -1.094175347315775e-05" xyz="-0.4255955178735976 0 0"/>
    <axis xyz="0 0 1"/>
    <limit effort="150.0" lower="-3.14159" upper="3.14159" velocity="3.15"/>
    <dynamics damping="0.0" friction="0.0"/>
  </joint>
  <link name="right_forearm_link">
    <visual>
      <origin rpy="1.5707963267948966 0 -1.5707963267948966" xyz="0 0 0.0165"/>
      <geometry>
        <mesh filename="./meshes/ur5/visual/forearm.dae"/>
      </geometry>
      <material name="LightGrey">
        <color rgba="0.7 0.7 0.7 1.0"/>
      </material>
    </visual>
    <collision>
      <origin rpy="1.5707963267948966 0 -1.5707963267948966" xyz="0 0 0.0165"/>
      <geometry>
        <mesh filename="./meshes/ur5/collision/forearm.stl"/>
      </geometry>
    </collision>
    <inertial>
      <mass value="2.275"/>
      <origin rpy="0 1.5707963267948966 0" xyz="-0.2127977589367988 0.0 0.0165"/>
      <inertia ixx="0.031243742089560593" ixy="0.0" ixz="0.0" iyy="0.031243742089560593" iyz="0.0" izz="0.004095"/>
    </inertial>
  </link>
  <joint name="right_wrist_1_joint" type="revolute">
    <parent link="right_forearm_link"/>
    <child link="right_wrist_1_link"/>
    <origin rpy="0.005347748217401119 0.0006785171055329065 -2.742538745494148e-05" xyz="-0.3924311684839673 -0.0005944496110317049 0.1111578032629135"/>
    <axis xyz="0 0 1"/>
    <limit effort="28.0" lower="-3.14159" upper="3.14159" velocity="3.2"/>
    <dynamics damping="0.0" friction="0.0"/>
  </joint>
  <link name="right_wrist_1_link">
    <visual>
      <origin rpy="1.5707963267948966 0 0" xyz="0 0 -0.093"/>
      <geometry>
        <mesh filename="./meshes/ur5/visual/wrist1.dae"/>
      </geometry>
      <material name="LightGrey">
        <color rgba="0.7 0.7 0.7 1.0"/>
      </material>
    </visual>
    <collision>
      <origin rpy="1.5707963267948966 0 0" xyz="0 0 -0.093"/>
      <geometry>
        <mesh filename="./meshes/ur5/collision/wrist1.stl"/>
      </geometry>
    </collision>
    <inertial>
      <mass value="1.219"/>
      <origin rpy="0 0 0" xyz="0.0 0.0 0.0"/>
      <inertia ixx="0.002629037495458916" ixy="0.0" ixz="0.0" iyy="0.002629037495458916" iyz="0.0" izz="0.0034284375"/>
    </inertial>
  </link>
  <joint name="right_wrist_2_joint" type="revolute">
    <parent link="right_wrist_1_link"/>
    <child link="right_wrist_2_link"/>
    <origin rpy="1.569468403067662 0 -9.542494196330857e-05" xyz="2.941862599780075e-05 -0.09489788806426759 0.0001260172312971319"/>
    <axis xyz="0 0 1"/>
    <limit effort="28.0" lower="-3.14159" upper="3.14159" velocity="3.2"/>
    <dynamics damping="0.0" friction="0.0"/>
  </joint>
  <link name="right_wrist_2_link">
    <visual>
      <origin rpy="0 0 0" xyz="0 0 -0.095"/>
      <geometry>
        <mesh filename="./meshes/ur5/visual/wrist2.dae"/>
      </geometry>
      <material name="LightGrey">
        <color rgba="0.7 0.7 0.7 1.0"/>
      </material>
    </visual>
    <collision>
      <origin rpy="0 0 0" xyz="0 0 -0.095"/>
      <geometry>
        <mesh filename="./meshes/ur5/collision/wrist2.stl"/>
      </geometry>
    </collision>
    <inertial>
      <mass value="1.219"/>
      <origin rpy="0 0 0" xyz="0.0 0.0 0.0"/>
      <inertia ixx="0.0017879874158416194" ixy="0.0" ixz="0.0" iyy="0.0017879874158416194" iyz="0.0" izz="0.0021942"/>
    </inertial>
  </link>
  <joint name="right_wrist_3_joint" type="revolute">
    <parent link="right_wrist_2_link"/>
    <child link="right_wrist_3_link"/>
    <origin rpy="1.572087084765102 3.141592653589793 3.141548784260287" xyz="2.687562318826077e-05 0.0824693622601854 0.0001064480457512508"/>
    <axis xyz="0 0 1"/>
    <limit effort="28.0" lower="-3.14159" upper="3.14159" velocity="3.2"/>
    <dynamics damping="0.0" friction="0.0"/>
  </joint>
  <link name="right_wrist_3_link">
    <visual>
      <origin rpy="1.5707963267948966 0 0" xyz="0 0 -0.0818"/>
      <geometry>
        <mesh filename="./meshes/ur5/visual/wrist3.dae"/>
      </geometry>
      <material name="LightGrey">
        <color rgba="0.7 0.7 0.7 1.0"/>
      </material>
    </visual>
    <collision>
      <origin rpy="1.5707963267948966 0 0" xyz="0 0 -0.0823"/>
      <geometry>
        <mesh filename="./meshes/ur5/collision/wrist3.stl"/>
      </geometry>
    </collision>
    <inertial>
      <mass value="0.1879"/>
      <origin rpy="0 0 0" xyz="0.0 0.0 -0.01525"/>
      <inertia ixx="8.062472608343e-05" ixy="0.0" ixz="0.0" iyy="8.062472608343e-05" iyz="0.0" izz="0.0001321171875"/>
    </inertial>
  </link>
  <joint name="right_ee_fixed_joint" type="fixed">
    <parent link="right_wrist_3_link"/>
    <child link="right_ee_link"/>
    <origin rpy="0.0 -1.5707963267948966 1.5707963267948966" xyz="0.0 0.0 0.0"/>
  </joint>
  <link name="right_ee_link">
    <collision>
      <geometry>
        <box size="0.01 0.01 0.01"/>
      </geometry>
      <origin rpy="0 0 0" xyz="-0.01 0 0"/>
    </collision>
  <inertial><mass value="0.001"/><inertia ixx="0.00001" ixy="0" ixz="0" iyy="0.00001" iyz="0" izz="0.00001"/></inertial></link>
  <joint name="right_wrist_3_passive_joint" type="fixed">
    <origin rpy="0 0 0" xyz="0 0 0"/>
    <parent link="right_wrist_3_link"/>
    <child link="right_tool0"/>
  </joint>
  <!-- ROS base_link to UR 'Base' Coordinates transform -->
  <link name="right_base"><inertial><mass value="0.001"/><inertia ixx="0.00001" ixy="0" ixz="0" iyy="0.00001" iyz="0" izz="0.00001"/></inertial></link>
  <joint name="right_base_link-base_fixed_joint" type="fixed">
    <!-- NOTE: this rotation is only needed as long as base_link itself is
                 not corrected wrt the real robot (ie: rotated over 180
                 degrees)
      -->
    <origin rpy="0 0 -3.141592653589793" xyz="0 0 0"/>
    <parent link="right_base_link"/>
    <child link="right_base"/>
  </joint>
  <!-- Frame coincident with all-zeros TCP on UR controller -->
  <link name="right_tool0"><inertial><mass value="0.001"/><inertia ixx="0.00001" ixy="0" ixz="0" iyy="0.00001" iyz="0" izz="0.00001"/></inertial></link>
  <joint name="right_base_joint" type="fixed">
    <origin rpy="0.0 2.356194490192345 0.0" xyz="0.17906 -0.3825 0.78936"/>
    <parent link="prl_ur5_base"/>
    <child link="right_base_link"/>
  </joint>
  <!-- mount the fts to the robot -->
  <joint name="right_ft300_fix" type="fixed">
    <origin rpy="0 0 -1.5707963267948966" xyz="0 0 -0.004"/>
    <parent link="right_tool0"/>
    <child link="right_ft300_mounting_plate"/>
  </joint>
  <!-- Link representing the FT300 force-torque sensor -->
  <link name="right_ft300_sensor">
    <inertial>
      <origin rpy="0 0 0" xyz="0 0 -0.017"/>
      <mass value="0.300"/>
      <inertia ixx="0.000262" ixy="0" ixz="1e-06" iyx="0" iyy="0.000265" iyz="1e-06" izx="-1e-06" izy="1e-06" izz="0.000219"/>
    </inertial>
    <visual>
      <origin rpy="0 0 0" xyz="0 0 0"/>
      <geometry>
        <mesh filename="./meshes/robotiq_ft_sensor/visual/robotiq_ft300.STL"/>
      </geometry>
      <material name="Robotiq-Black">
        <color rgba="0.2 0.2 0.2 1.0"/>
      </material>
    </visual>
    <collision>
      <origin rpy="0 0 0" xyz="0 0 0"/>
      <geometry>
        <mesh filename="./meshes/robotiq_ft_sensor/collision/robotiq_ft300.STL"/>
      </geometry>
    </collision>
  </link>
  <!-- Link representing the FT300 mounting plate -->
  <link name="right_ft300_mounting_plate">
    <visual>
      <origin rpy="0 0 0" xyz="0 0 0"/>
      <geometry>
        <mesh filename="./meshes/robotiq_ft_sensor/visual/mountings/robotiq_ft300-G-062-COUPLING_G-50-4M6-1D6_20181119.STL"/>
      </geometry>
      <material name="Robotiq-Grey">
        <color rgba="0.4 0.4 0.4 1.0"/>
      </material>
    </visual>
    <collision>
      <origin rpy="0 0 0" xyz="0 0 0"/>
      <geometry>
        <mesh filename="./meshes/robotiq_ft_sensor/collision/mountings/robotiq_ft300-G-062-COUPLING_G-50-4M6-1D6_20181119.STL"/>
      </geometry>
    </collision>
  <inertial><mass value="0.001"/><inertia ixx="0.00001" ixy="0" ixz="0" iyy="0.00001" iyz="0" izz="0.00001"/></inertial></link>
  <!-- Connect force sensor with mounting/coupling plate -->
  <joint name="right_ft300_mounting_plate" type="fixed">
    <origin rpy="0 3.141592653589793 0" xyz="0 0 0.0415"/>
    <parent link="right_ft300_mounting_plate"/>
    <child link="right_ft300_sensor"/>
  </joint>
  <!-- FORCE REFERENCE FRAME _______________________________________________________________________________
            As specified in the documentation:
            - The Z axis passes through the center of the depression with positive direction in the tool direction.
            - The X axis traces a symmetric line centered on the connector; the positive direction
                points the opposite way away from the connector.
            - The Y axis uses the right hand thumb rule according to X-Z. -->
  <joint name="right_measurment_joint" type="fixed">
    <origin rpy="0 3.141592653589793 -1.5707963267948966" xyz="0 0 0"/>
    <parent link="right_ft300_sensor"/>
    <child link="right_robotiq_ft_frame_id"/>
  </joint>
  <link name="right_robotiq_ft_frame_id"><inertial><mass value="0.001"/><inertia ixx="0.00001" ixy="0" ixz="0" iyy="0.00001" iyz="0" izz="0.00001"/></inertial></link>
  <!-- tool frame -->
  <link name="right_tool"><inertial><mass value="0.001"/><inertia ixx="0.00001" ixy="0" ixz="0" iyy="0.00001" iyz="0" izz="0.00001"/></inertial></link>
  <joint name="right_tool_joint" type="fixed">
    <origin rpy="0 0 0" xyz="0 0 0"/>
    <parent link="right_robotiq_ft_frame_id"/>
    <child link="right_tool"/>
  </joint>
  <!-- bracket -->
  <link name="right_gripper_bracket">
    <visual>
      <geometry>
        <mesh filename="./meshes/rg2_v1/visual/single_bracket.stl"/>
      </geometry>
      <material name="onrobot/grey"/>
    </visual>
    <collision>
      <geometry>
        <mesh filename="./meshes/rg2_v1/collision/single_bracket.stl"/>
      </geometry>
    </collision>
    <inertial>
      <mass value="0.09"/>
      <inertia ixx="0.001" ixy="0.0" ixz="0.0" iyy="0.001" iyz="0.0" izz="0.001"/>
    </inertial>
  </link>
  <joint name="right_gripper_bracket_joint" type="fixed">
    <parent link="right_tool"/>
    <child link="right_gripper_bracket"/>
    <origin rpy="0.0 0.0 0.0" xyz="0.0 0.0 0.0"/>
  </joint>
  <!-- body -->
  <link name="right_gripper_body">
    <visual>
      <geometry>
        <mesh filename="./meshes/rg2_v1/visual/body.stl"/>
      </geometry>
      <material name="onrobot/light_grey"/>
    </visual>
    <collision>
      <geometry>
        <mesh filename="./meshes/rg2_v1/collision/body.stl"/>
      </geometry>
    </collision>
    <inertial>
      <mass value="0.65"/>
      <inertia ixx="0.001" ixy="0.0" ixz="0.0" iyy="0.001" iyz="0.0" izz="0.001"/>
    </inertial>
  </link>
  <joint name="right_gripper_body_joint" type="fixed">
    <parent link="right_gripper_bracket"/>
    <child link="right_gripper_body"/>
    <origin rpy="0.0 0.0 0.0" xyz="0.0 0.0 0.05"/>
  </joint>
  <!-- grasp frame -->
  <link name="right_gripper_grasp_frame"><inertial><mass value="0.001"/><inertia ixx="0.00001" ixy="0" ixz="0" iyy="0.00001" iyz="0" izz="0.00001"/></inertial></link>
  <joint name="right_gripper_grasp_frame_joint" type="fixed">
    <parent link="right_gripper_body"/>
    <child link="right_gripper_grasp_frame"/>
    <origin rpy="0.0 0.0 0.0" xyz="0.0 0.0 0.14"/>
  </joint>
  <!-- origin frame -->
  <link name="right_gripper_finger_1_origin">
    <inertial>
      <mass value="0.001"/>
      <inertia ixx="0.00001" ixy="0.0" ixz="0.0" iyy="0.00001" iyz="0.0" izz="0.00001"/>
    </inertial>
  </link>
  <joint name="right_gripper_finger_1_origin_joint" type="fixed">
    <parent link="right_gripper_body"/>
    <child link="right_gripper_finger_1_origin"/>
    <origin rpy="0 0 0" xyz="0 0 0"/>
  </joint>
  <!-- moment bar -->
  <link name="right_gripper_finger_1_moment_arm">
    <visual>
      <geometry>
        <mesh filename="./meshes/rg2_v1/visual/moment_arm.stl"/>
      </geometry>
      <material name="onrobot/light_grey"/>
    </visual>
    <collision>
      <geometry>
        <mesh filename="./meshes/rg2_v1/collision/moment_arm.stl"/>
      </geometry>
    </collision>
    <inertial>
      <mass value="0.001"/>
      <inertia ixx="0.001" ixy="0.0" ixz="0.0" iyy="0.001" iyz="0.0" izz="0.001"/>
    </inertial>
  </link>
  <joint name="right_gripper_joint" type="revolute">
    <parent link="right_gripper_finger_1_origin"/>
    <child link="right_gripper_finger_1_moment_arm"/>
    <axis xyz="0 1 0"/>
    <origin rpy="0.0 -0.772 0.0" xyz="-0.017 0.0 0.055"/>
    <limit effort="2.2" lower="0.0" upper="1.3" velocity="0.5"/>
    <dynamics damping="0.5"/>
  </joint>
  <!-- truss bar -->
  <link name="right_gripper_finger_1_truss_arm">
    <visual>
      <geometry>
        <mesh filename="./meshes/rg2_v1/visual/truss_arm.stl"/>
      </geometry>
      <material name="onrobot/light_grey"/>
    </visual>
    <collision>
      <geometry>
        <mesh filename="./meshes/rg2_v1/collision/truss_arm.stl"/>
      </geometry>
    </collision>
    <inertial>
      <mass value="0.001"/>
      <inertia ixx="0.001" ixy="0.0" ixz="0.0" iyy="0.001" iyz="0.0" izz="0.001"/>
    </inertial>
  </link>
  <joint name="right_gripper_finger_1_truss_arm_joint" type="revolute">
    <parent link="right_gripper_finger_1_origin"/>
    <child link="right_gripper_finger_1_truss_arm"/>
    <axis xyz="0 1 0"/>
    <origin rpy="0.0 -0.772 0.0" xyz="-0.0075 0.0 0.0715"/>
    <limit effort="2.2" lower="0.0" upper="1.3" velocity="0.5"/>
    <mimic joint="right_gripper_joint" multiplier="1" offset="0"/>
  </joint>
  <!-- finger tip -->
  <link name="right_gripper_finger_1_finger_tip">
    <visual>
      <geometry>
        <mesh filename="./meshes/rg2_v1/visual/finger_tip.stl"/>
      </geometry>
      <material name="onrobot/light_grey"/>
    </visual>
    <collision>
      <geometry>
        <mesh filename="./meshes/rg2_v1/collision/finger_tip_1.stl"/>
      </geometry>
    </collision>
    <collision>
      <geometry>
        <mesh filename="./meshes/rg2_v1/collision/finger_tip_2.stl"/>
      </geometry>
    </collision>
    <inertial>
      <mass value="0.001"/>
      <inertia ixx="0.001" ixy="0.0" ixz="0.0" iyy="0.001" iyz="0.0" izz="0.001"/>
    </inertial>
  </link>
  <joint name="right_gripper_finger_1_finger_tip_joint" type="revolute">
    <parent link="right_gripper_finger_1_truss_arm"/>
    <child link="right_gripper_finger_1_finger_tip"/>
    <axis xyz="0 -1 0"/>
    <origin rpy="0.0 0.772 0.0" xyz="-0.0256 0.0 0.04868"/>
    <limit effort="2.2" lower="0.0" upper="1.3" velocity="0.5"/>
    <mimic joint="right_gripper_joint" multiplier="1" offset="0"/>
  </joint>
  <!-- flex finger -->
  <link name="right_gripper_finger_1_flex_finger">
    <visual>
      <geometry>
        <mesh filename="./meshes/rg2_v1/visual/flex_finger.stl"/>
      </geometry>
      <material name="onrobot/dark_grey"/>
    </visual>
    <collision>
      <geometry>
        <mesh filename="./meshes/rg2_v1/collision/flex_finger.stl"/>
      </geometry>
    </collision>
    <inertial>
      <mass value="0.001"/>
      <inertia ixx="0.001" ixy="0.0" ixz="0.0" iyy="0.001" iyz="0.0" izz="0.001"/>
    </inertial>
  </link>
  <joint name="right_gripper_finger_1_flex_finger_joint" type="fixed">
    <parent link="right_gripper_finger_1_finger_tip"/>
    <child link="right_gripper_finger_1_flex_finger"/>
    <origin rpy="0.0 0.0 0.0" xyz="0.03059 0.0 0.0172"/>
  </joint>
  <!-- origin frame -->
  <link name="right_gripper_finger_2_origin">
    <inertial>
      <mass value="0.001"/>
      <inertia ixx="0.00001" ixy="0.0" ixz="0.0" iyy="0.00001" iyz="0.0" izz="0.00001"/>
    </inertial>
  </link>
  <joint name="right_gripper_finger_2_origin_joint" type="fixed">
    <parent link="right_gripper_body"/>
    <child link="right_gripper_finger_2_origin"/>
    <origin rpy="0 0 3.141592653589793" xyz="0 0 0"/>
  </joint>
  <!-- moment bar -->
  <link name="right_gripper_finger_2_moment_arm">
    <visual>
      <geometry>
        <mesh filename="./meshes/rg2_v1/visual/moment_arm.stl"/>
      </geometry>
      <material name="onrobot/light_grey"/>
    </visual>
    <collision>
      <geometry>
        <mesh filename="./meshes/rg2_v1/collision/moment_arm.stl"/>
      </geometry>
    </collision>
    <inertial>
      <mass value="0.001"/>
      <inertia ixx="0.001" ixy="0.0" ixz="0.0" iyy="0.001" iyz="0.0" izz="0.001"/>
    </inertial>
  </link>
  <joint name="right_gripper_mirror_joint" type="revolute">
    <parent link="right_gripper_finger_2_origin"/>
    <child link="right_gripper_finger_2_moment_arm"/>
    <axis xyz="0 1 0"/>
    <origin rpy="0.0 -0.772 0.0" xyz="-0.017 0.0 0.055"/>
    <limit effort="2.2" lower="0.0" upper="1.3" velocity="0.5"/>
    <dynamics damping="0.5"/>
    <mimic joint="right_gripper_joint" multiplier="1" offset="0"/>
  </joint>
  <!-- truss bar -->
  <link name="right_gripper_finger_2_truss_arm">
    <visual>
      <geometry>
        <mesh filename="./meshes/rg2_v1/visual/truss_arm.stl"/>
      </geometry>
      <material name="onrobot/light_grey"/>
    </visual>
    <collision>
      <geometry>
        <mesh filename="./meshes/rg2_v1/collision/truss_arm.stl"/>
      </geometry>
    </collision>
    <inertial>
      <mass value="0.001"/>
      <inertia ixx="0.001" ixy="0.0" ixz="0.0" iyy="0.001" iyz="0.0" izz="0.001"/>
    </inertial>
  </link>
  <joint name="right_gripper_finger_2_truss_arm_joint" type="revolute">
    <parent link="right_gripper_finger_2_origin"/>
    <child link="right_gripper_finger_2_truss_arm"/>
    <axis xyz="0 1 0"/>
    <origin rpy="0.0 -0.772 0.0" xyz="-0.0075 0.0 0.0715"/>
    <limit effort="2.2" lower="0.0" upper="1.3" velocity="0.5"/>
    <mimic joint="right_gripper_joint" multiplier="1" offset="0"/>
  </joint>
  <!-- finger tip -->
  <link name="right_gripper_finger_2_finger_tip">
    <visual>
      <geometry>
        <mesh filename="./meshes/rg2_v1/visual/finger_tip.stl"/>
      </geometry>
      <material name="onrobot/light_grey"/>
    </visual>
    <collision>
      <geometry>
        <mesh filename="./meshes/rg2_v1/collision/finger_tip_1.stl"/>
      </geometry>
    </collision>
    <collision>
      <geometry>
        <mesh filename="./meshes/rg2_v1/collision/finger_tip_2.stl"/>
      </geometry>
    </collision>
    <inertial>
      <mass value="0.001"/>
      <inertia ixx="0.001" ixy="0.0" ixz="0.0" iyy="0.001" iyz="0.0" izz="0.001"/>
    </inertial>
  </link>
  <joint name="right_gripper_finger_2_finger_tip_joint" type="revolute">
    <parent link="right_gripper_finger_2_truss_arm"/>
    <child link="right_gripper_finger_2_finger_tip"/>
    <axis xyz="0 -1 0"/>
    <origin rpy="0.0 0.772 0.0" xyz="-0.0256 0.0 0.04868"/>
    <limit effort="2.2" lower="0.0" upper="1.3" velocity="0.5"/>
    <mimic joint="right_gripper_joint" multiplier="1" offset="0"/>
  </joint>
  <!-- flex finger -->
  <link name="right_gripper_finger_2_flex_finger">
    <visual>
      <geometry>
        <mesh filename="./meshes/rg2_v1/visual/flex_finger.stl"/>
      </geometry>
      <material name="onrobot/dark_grey"/>
    </visual>
    <collision>
      <geometry>
        <mesh filename="./meshes/rg2_v1/collision/flex_finger.stl"/>
      </geometry>
    </collision>
    <inertial>
      <mass value="0.001"/>
      <inertia ixx="0.001" ixy="0.0" ixz="0.0" iyy="0.001" iyz="0.0" izz="0.001"/>
    </inertial>
  </link>
  <joint name="right_gripper_finger_2_flex_finger_joint" type="fixed">
    <parent link="right_gripper_finger_2_finger_tip"/>
    <child link="right_gripper_finger_2_flex_finger"/>
    <origin rpy="0.0 0.0 0.0" xyz="0.03059 0.0 0.0172"/>
  </joint>
  <!-- camera body, with origin at bottom screw mount -->
  <joint name="right_camera_joint" type="fixed">
    <origin rpy="-1.57 -1.57 0.0" xyz="0.0 0.01 0.13"/>
    <parent link="right_tool"/>
    <child link="right_camera_bottom_screw_frame"/>
  </joint>
  <link name="right_camera_bottom_screw_frame"><inertial><mass value="0.001"/><inertia ixx="0.00001" ixy="0" ixz="0" iyy="0.00001" iyz="0" izz="0.00001"/></inertial></link>
  <joint name="right_camera_link_joint" type="fixed">
    <!-- <origin rpy="0 0 0" xyz="0.010600000000000002 0.0175 0.0125"/> -->
    <origin rpy="0 0 0" xyz="0.010600000000000002 0.0175 0.0125"/>
    <parent link="right_camera_bottom_screw_frame"/>
    <child link="right_camera_link"/>
  </joint>
  <link name="right_camera_link">
    <visual>
      <!-- the mesh origin is at front plate in between the two infrared camera axes -->
      <origin rpy="1.5707963267948966 0 1.5707963267948966" xyz="0.0043 -0.0175 0"/>
      <geometry>
        <!-- <box size="${d435_cam_width} ${d435_cam_height} ${d435_cam_depth}"/> -->
        <mesh filename="./meshes/realsense2/d435.dae"/>
      </geometry>
      <material name="aluminum"/>
    </visual>
    <collision>
      <origin rpy="0 0 0" xyz="0 -0.0175 0"/>
      <geometry>
        <box size="0.02505 0.09 0.025"/>
      </geometry>
    </collision>
    <inertial>
      <!-- The following are not reliable values, and should not be used for modeling -->
      <mass value="0.072"/>
      <origin xyz="0 0 0"/>
      <inertia ixx="0.003881243" ixy="0.0" ixz="0.0" iyy="0.000498940" iyz="0.0" izz="0.003879257"/>
    </inertial>
  </link>

  <!-- camera depth joints and links -->
  <!-- Check inertial and mass information. Just set to 1e-5 to avoid warnings -->
  <joint name="right_camera_depth_joint" type="fixed">
    <origin xyz="0 0 0" rpy="0 0 0"/>
    <parent link="right_camera_link"/>
    <child link="right_camera_depth_frame" />
  </joint>
  <link name="right_camera_depth_frame"><inertial><mass value="0.001"/><inertia ixx="0.00001" ixy="0" ixz="0" iyy="0.00001" iyz="0" izz="0.00001"/></inertial></link>

  <joint name="right_camera_depth_optical_joint" type="fixed">
    <origin xyz="0 0 0" rpy="-1.5707963267948966 0 -1.5707963267948966" />
    <parent link="right_camera_depth_frame" />
    <child link="right_camera_depth_optical_frame" />
  </joint>
  <link name="right_camera_depth_optical_frame"><inertial><mass value="0.001"/><inertia ixx="0.00001" ixy="0" ixz="0" iyy="0.00001" iyz="0" izz="0.00001"/></inertial></link>

  <!-- camera left IR joints and links -->
  <joint name="right_camera_infra1_joint" type="fixed">
    <origin xyz="0 0 0" rpy="0 0 0" />
    <parent link="right_camera_link" />
    <child link="right_camera_infra1_frame" />
  </joint>
  <link name="right_camera_infra1_frame"><inertial><mass value="0.001"/><inertia ixx="0.00001" ixy="0" ixz="0" iyy="0.00001" iyz="0" izz="0.00001"/></inertial></link>

  <joint name="right_camera_infra1_optical_joint" type="fixed">
    <origin xyz="0 0 0" rpy="-1.5707963267948966 0 -1.5707963267948966" />
    <parent link="right_camera_infra1_frame" />
    <child link="right_camera_infra1_optical_frame" />
  </joint>
  <link name="right_camera_infra1_optical_frame"><inertial><mass value="0.001"/><inertia ixx="0.00001" ixy="0" ixz="0" iyy="0.00001" iyz="0" izz="0.00001"/></inertial></link>

  <!-- camera right IR joints and links -->
  <joint name="right_camera_infra2_joint" type="fixed">
    <origin xyz="0 -0.05 0" rpy="0 0 0" />
    <parent link="right_camera_link" />
    <child link="right_camera_infra2_frame" />
  </joint>
  <link name="right_camera_infra2_frame"><inertial><mass value="0.001"/><inertia ixx="0.00001" ixy="0" ixz="0" iyy="0.00001" iyz="0" izz="0.00001"/></inertial></link>

  <joint name="right_camera_infra2_optical_joint" type="fixed">
    <origin xyz="0 0 0" rpy="-1.5707963267948966 0 -1.5707963267948966" />
    <parent link="right_camera_infra2_frame" />
    <child link="right_camera_infra2_optical_frame" />
  </joint>
  <link name="right_camera_infra2_optical_frame"><inertial><mass value="0.001"/><inertia ixx="0.00001" ixy="0" ixz="0" iyy="0.00001" iyz="0" izz="0.00001"/></inertial></link>

  <!-- camera color joints and links -->
  <joint name="right_camera_color_joint" type="fixed">
    <origin xyz="0 0.015 0" rpy="0 0 0" />
    <parent link="right_camera_link" />
    <child link="right_camera_color_frame" />
  </joint>
  <link name="right_camera_color_frame"><inertial><mass value="0.001"/><inertia ixx="0.00001" ixy="0" ixz="0" iyy="0.00001" iyz="0" izz="0.00001"/></inertial></link>

  <joint name="right_camera_color_optical_joint" type="fixed">
    <origin xyz="0 0 0" rpy="-1.5707963267948966 0 -1.5707963267948966" />
    <parent link="right_camera_color_frame" />
    <child link="right_camera_color_optical_frame" />
  </joint>
  <link name="right_camera_color_optical_frame"><inertial><mass value="0.001"/><inertia ixx="0.00001" ixy="0" ixz="0" iyy="0.00001" iyz="0" izz="0.00001"/></inertial></link>
</robot>
